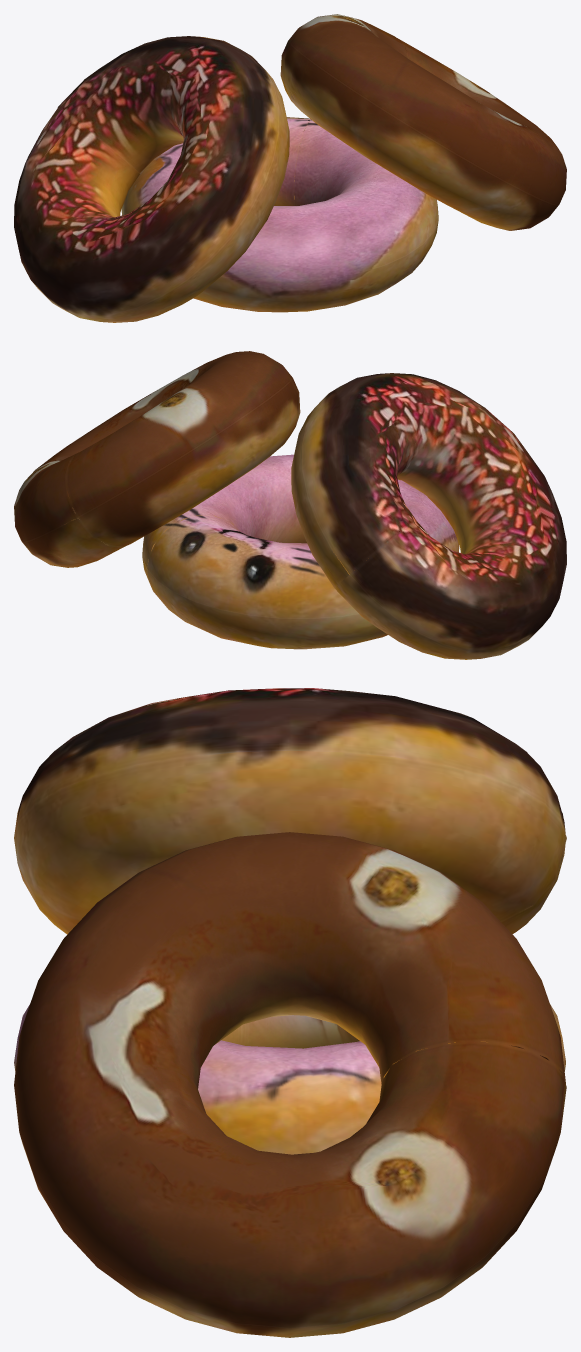
Rendered from donuts.glb.
The picture shows the model from 3 angles, top to bottom: view 1: azimuth 30°, elevation 25°; view 2: azimuth 150°, elevation 25°; view 3: azimuth 270°, elevation 25°; orthographic projection. The views are drawn at different scales.
Parts seen in each view (by area): view 1: Torus002, Torus004, Torus003; view 2: Torus002, Torus004, Torus003; view 3: Torus004, Torus002, Torus003.
Part boxes in pixels (x1=…): Torus002: x1=14, y1=36, x2=289, y2=322; Torus004: x1=280, y1=14, x2=566, y2=230; Torus003: x1=121, y1=117, x2=438, y2=312; Torus002: x1=291, y1=373, x2=566, y2=659; Torus004: x1=14, y1=351, x2=300, y2=567; Torus003: x1=142, y1=454, x2=459, y2=649; Torus004: x1=14, y1=832, x2=566, y2=1337; Torus002: x1=14, y1=688, x2=566, y2=934; Torus003: x1=14, y1=1004, x2=565, y2=1154.
Size of the model in its own units: 0.9156 by 0.3971 by 0.5008.
3 materials, 3 textured.
